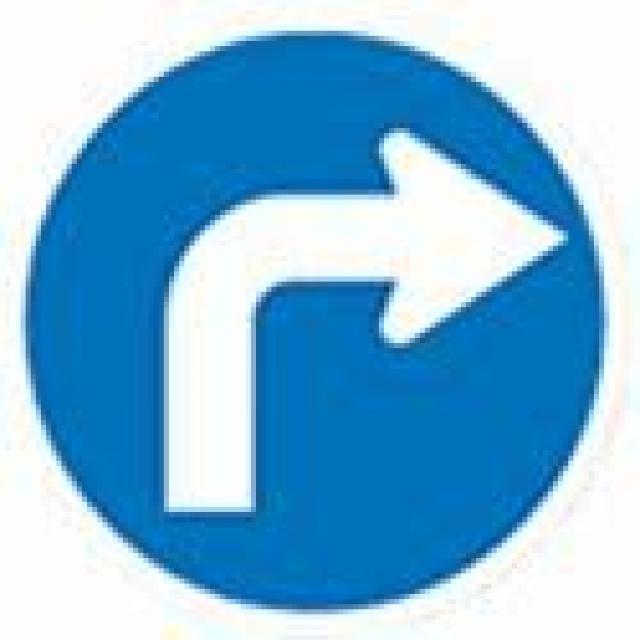compulsary turn right ahead: (34, 37, 601, 608)
